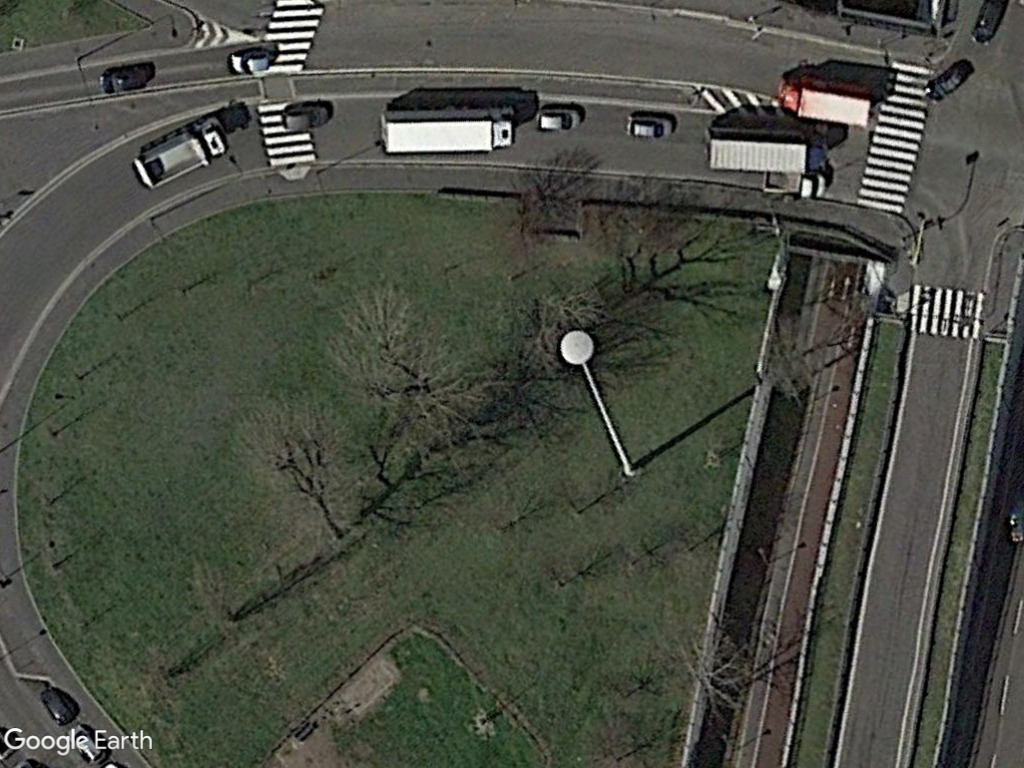car: (278, 98, 333, 135), (623, 111, 680, 144), (227, 48, 283, 74), (534, 106, 586, 133)
other: (122, 112, 238, 197)
truck: (372, 104, 521, 160), (699, 119, 833, 177), (776, 67, 876, 130)
